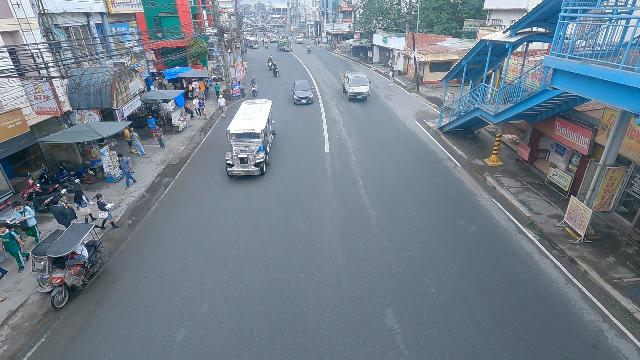car: (289, 78, 317, 107), (296, 36, 304, 44), (270, 36, 278, 43)
jeepney: (224, 98, 276, 179), (277, 38, 292, 54), (245, 36, 259, 49)
motorcycle: (249, 78, 260, 97), (273, 63, 280, 78), (266, 56, 273, 70), (307, 45, 311, 53), (264, 42, 268, 49), (290, 34, 294, 39)
truck: (338, 70, 372, 103)
